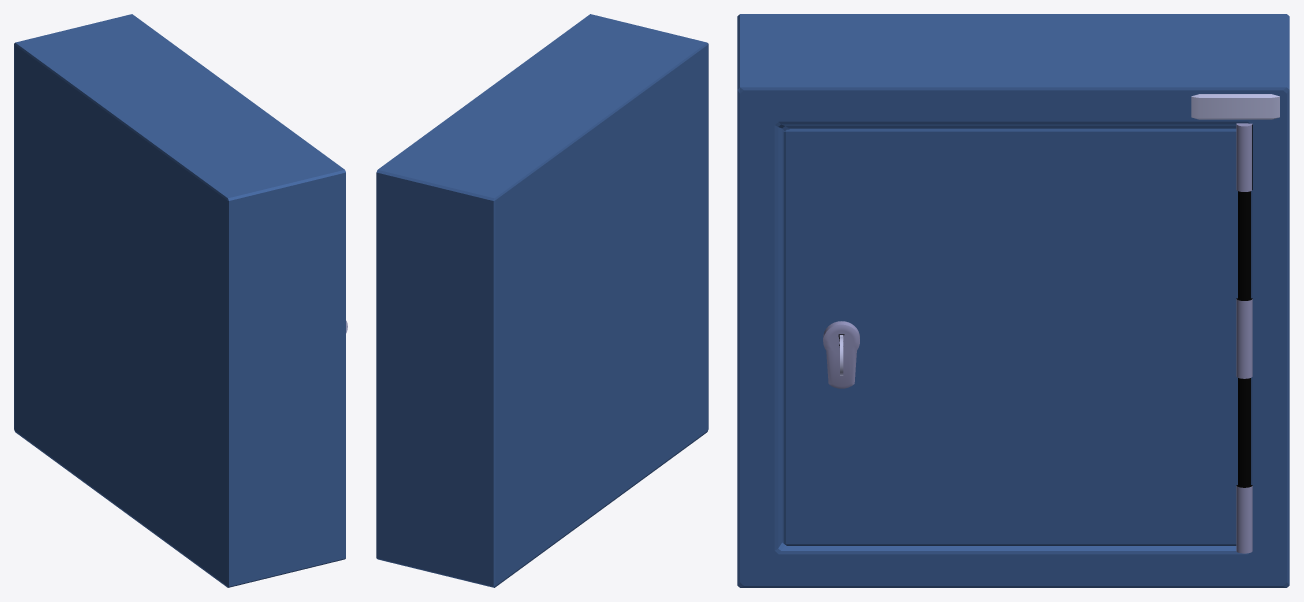
Rendered from medecinecabinet.fbx.
3 renders of one model, left to right at view 1: azimuth 30°, elevation 25°; view 2: azimuth 150°, elevation 25°; view 3: azimuth 270°, elevation 25°, orthographic. The views are drawn at different scales.
Parts seen in each view (by area): view 1: Cylinder.002; view 2: Cylinder.002; view 3: Cylinder.002.
Part boxes in pixels (x1,y1,x2,y2): Cylinder.002: (14,14,347,587); Cylinder.002: (376,14,708,587); Cylinder.002: (737,14,1289,587).
Size of the model in its own units: 85.67 by 200 by 200.
